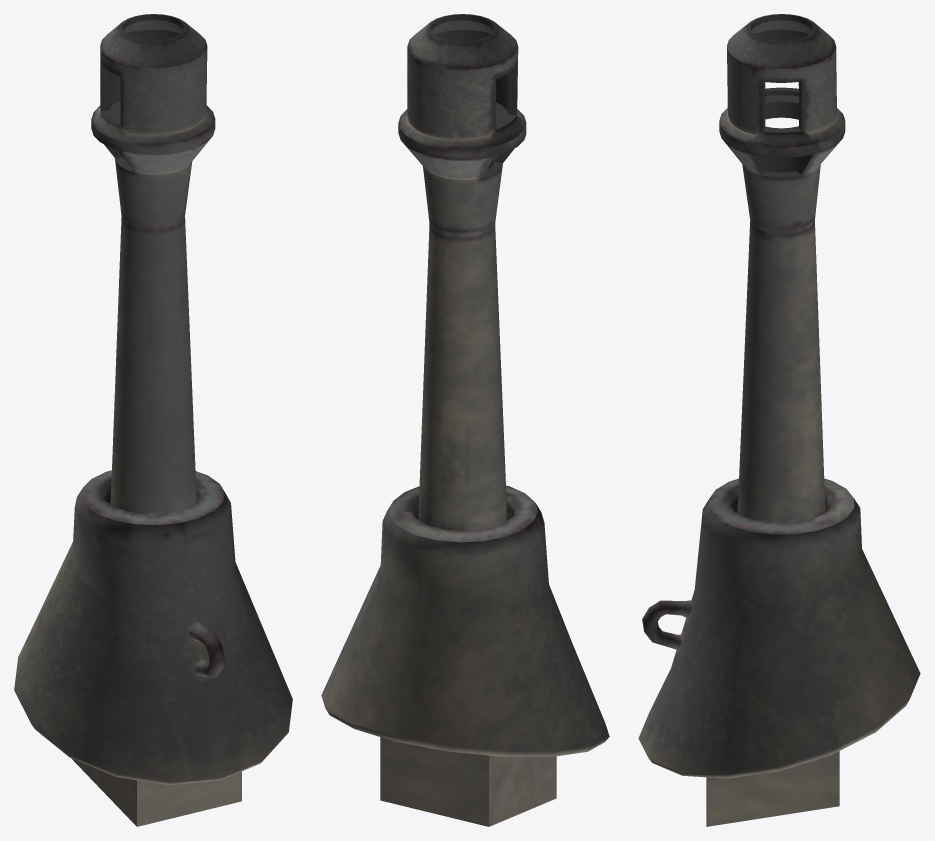
Rendered from Gun_05.glb.
3 views of the same model, side by side, from view 1: azimuth 30°, elevation 25°; view 2: azimuth 150°, elevation 25°; view 3: azimuth 270°, elevation 25° (orthographic). The views are drawn at different scales.
Parts seen in each view (by area): view 1: set_0_group_0; view 2: set_0_group_0; view 3: set_0_group_0.
Boxes of the visible parts, box(x1,y1,x2,y2) form: set_0_group_0: box(14, 14, 292, 826); set_0_group_0: box(321, 14, 609, 826); set_0_group_0: box(638, 14, 920, 826).
Size of the model in its own units: 0.6873 by 2.04 by 0.6744.
1 material, 1 textured.
